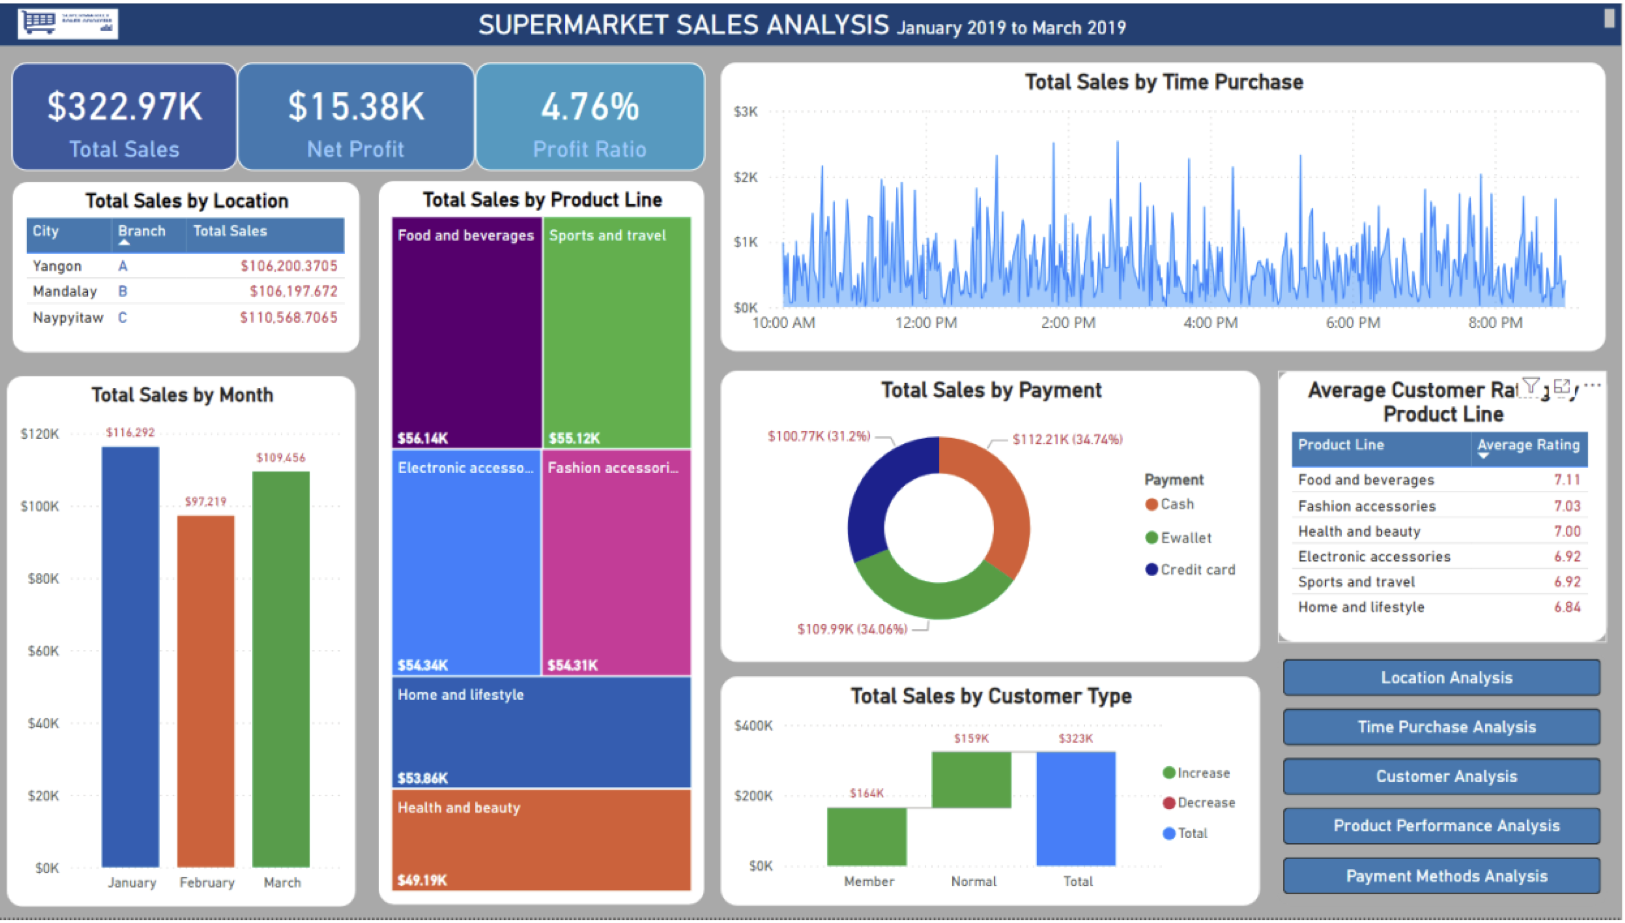

Layout of this report page (visuals, bound fields, positions):
{"tool":"powerbi","page":{"name":"Overview","canvas":[1280,720],"ordinal":0},"visuals":[{"type":"textbox","box":[0,0,1280,33.8],"z":0},{"type":"card","fields":{"Values":["Sales.Total Sales"]},"box":[13.9,47.7,177.8,85.4],"z":1000},{"type":"card","fields":{"Values":["Sales.Net Profit"]},"box":[191.7,47.7,186.7,85.4],"z":2000},{"type":"card","fields":{"Values":["Sales.Profit Ratio"]},"box":[378.3,47.7,180.7,85.4],"z":3000},{"type":"columnChart","fields":{"Category":["Sales.Date.Variation.Date Hierarchy.Month"],"Y":["Sales.Total Sales"]},"box":[10,294.3,274.3,417.1],"z":4000},{"type":"treemap","title":"Total Sales by Product Line","fields":{"Group":["Sales.Product Line"],"Values":["Sales.Total Sales"]},"box":[302.9,141,256.2,569],"z":5000},{"type":"waterfallChart","fields":{"Category":["CustomerType.Customer Type"],"Y":["Sales.Total Sales"]},"box":[572,530.3,424,179.7],"z":6000},{"type":"donutChart","fields":{"Y":["Sales.Total Sales"],"Category":["PaymentMethod.Payment"]},"box":[571.4,290,424.3,228.6],"z":7000},{"type":"lineChart","title":"Total Sales by Time Purchase","fields":{"Category":["Sales.Time"],"Y":["Sales.Total Sales"]},"box":[572,47.7,696.1,227.4],"z":8000},{"type":"tableEx","title":"Total Sales by Location","fields":{"Values":["City.City","Sales.Branch","Sales.Total Sales"]},"box":[14.3,141.4,272.9,134.3],"z":9000},{"type":"pageNavigator","box":[1008.9,511.4,260.2,199.6],"z":10000},{"type":"image","box":[13.9,0,89.4,33.8],"z":11000},{"type":"tableEx","title":"Average Customer Rating by Product Line","fields":{"Values":["ProductLine.Product Line","Sales.Average Rating"]},"box":[1009.9,290,259.2,213.5],"z":12000}]}

Visuals, with their boxes in screenshot pixels (x1, y1, x2, y2), scaled from the page's 1280x720 canvas onto the 1625x923 screenshot:
textbox: 0 0 1624 43
card - Sales.Total Sales: 18 61 243 171
card - Sales.Net Profit: 243 61 480 171
card - Sales.Profit Ratio: 480 61 710 171
columnChart - Sales.Date.Variation.Date Hierarchy.Month x Sales.Total Sales: 13 377 361 912
"Total Sales by Product Line" treemap: 385 181 710 910
waterfallChart - CustomerType.Customer Type x Sales.Total Sales: 726 680 1264 910
donutChart - Sales.Total Sales x PaymentMethod.Payment: 725 372 1264 665
"Total Sales by Time Purchase" lineChart: 726 61 1610 353
"Total Sales by Location" tableEx: 18 181 365 353
pageNavigator: 1281 656 1611 911
image: 18 0 131 43
"Average Customer Rating by Product Line" tableEx: 1282 372 1611 645
